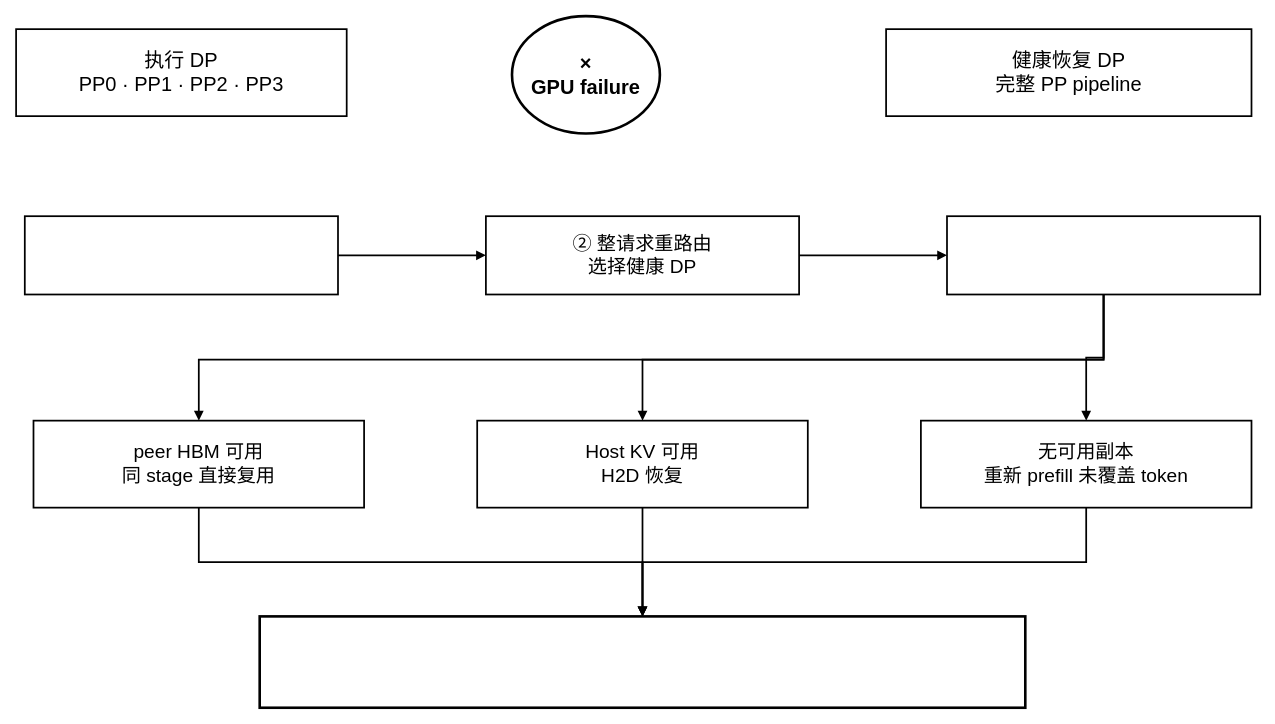
Image size: 1275x724. Some labels were removed from this diagram. Here are the shapes that lost their labels. From the top down, the centre of each, then its label:
At pixel 180 255: "① 检测故障 停止向故障 DP 调度".
At pixel 1103 255: "③ 查询 chunk 放置状态".
At pixel 642 662: "④ 恢复请求执行 记录 reuse token · recompute token · retry latency · WCT".
